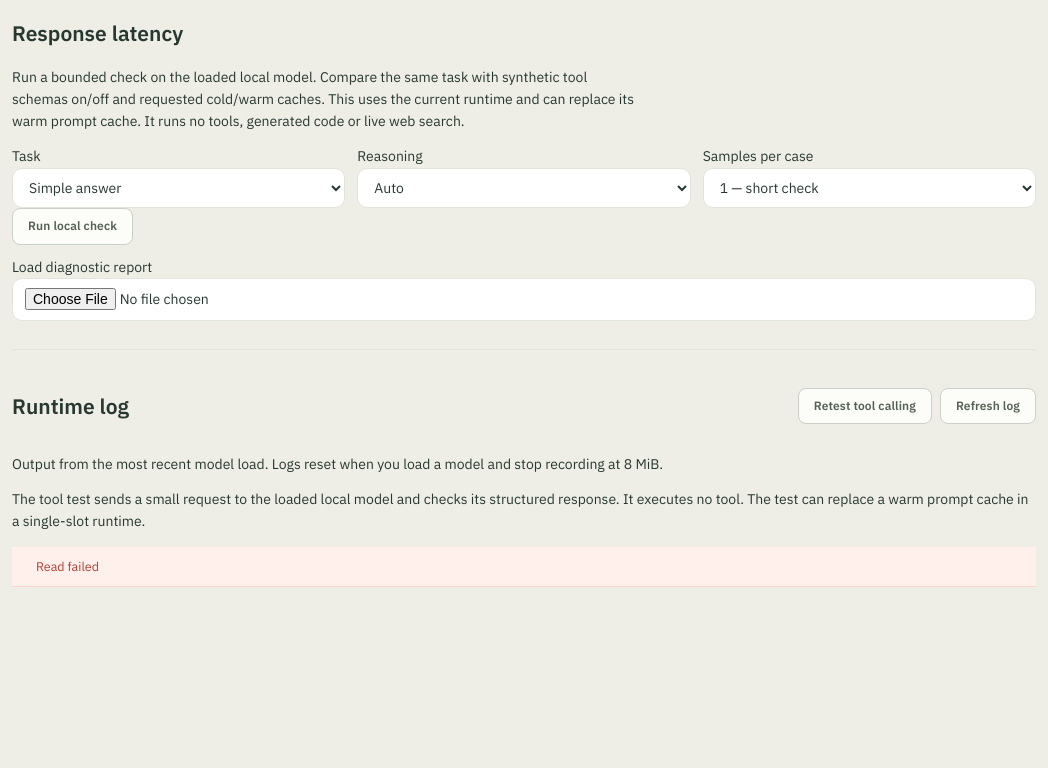
Scenario: renders log text literally and refreshes after an error
Expected: the message reads "Read failed", [36,558,99,574]
Click the button "Refresh log" at (988, 406), box [940,388,1036,424]
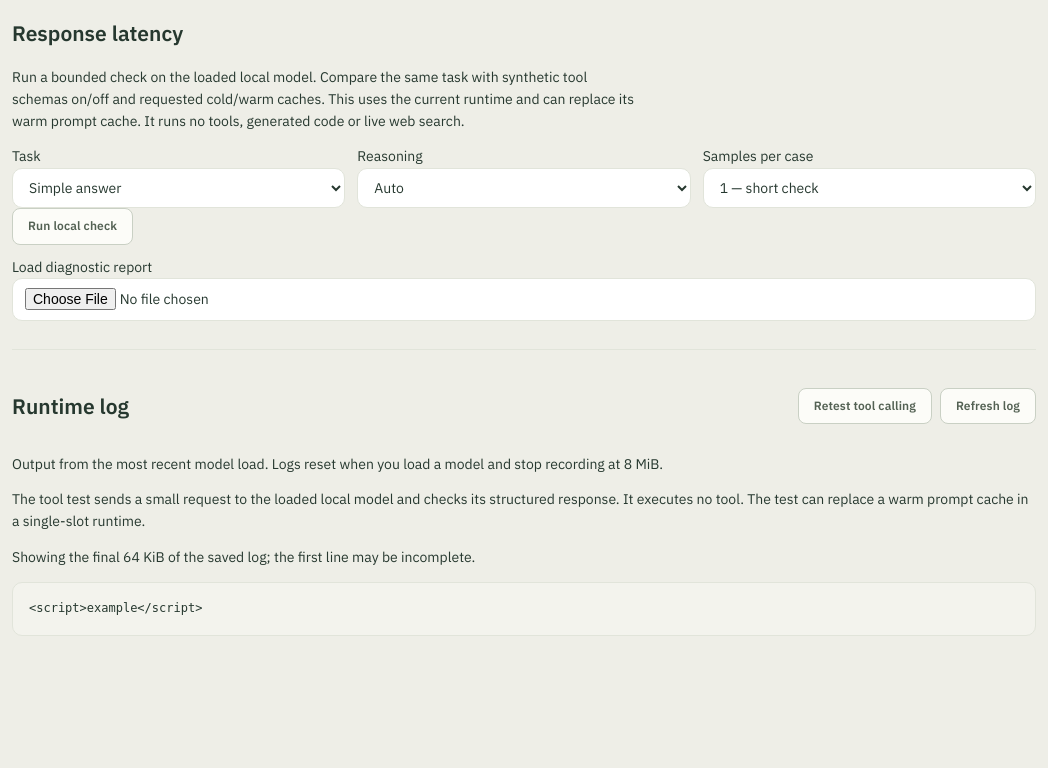
Expected: the text named "Runtime log output" reads "<script>example</script>", [29,601,202,615]
Expected: the message shows "final 64 KiB", [12,548,475,566]
Click the button "Retest tool calling" at (865, 406), box [798,388,932,424]
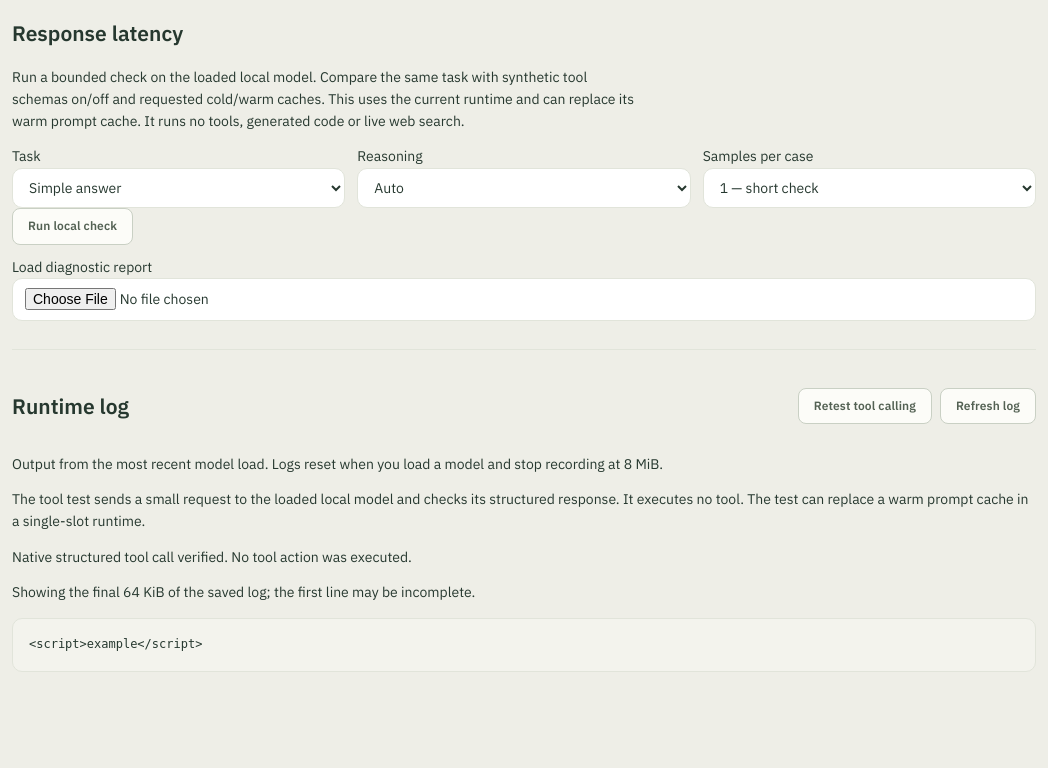
Expected: the message shows "final 64 KiB", [12,583,475,601]
Expected: the text "Native structured tool call verified. No tool action was executed." is shown, [12,548,412,566]
